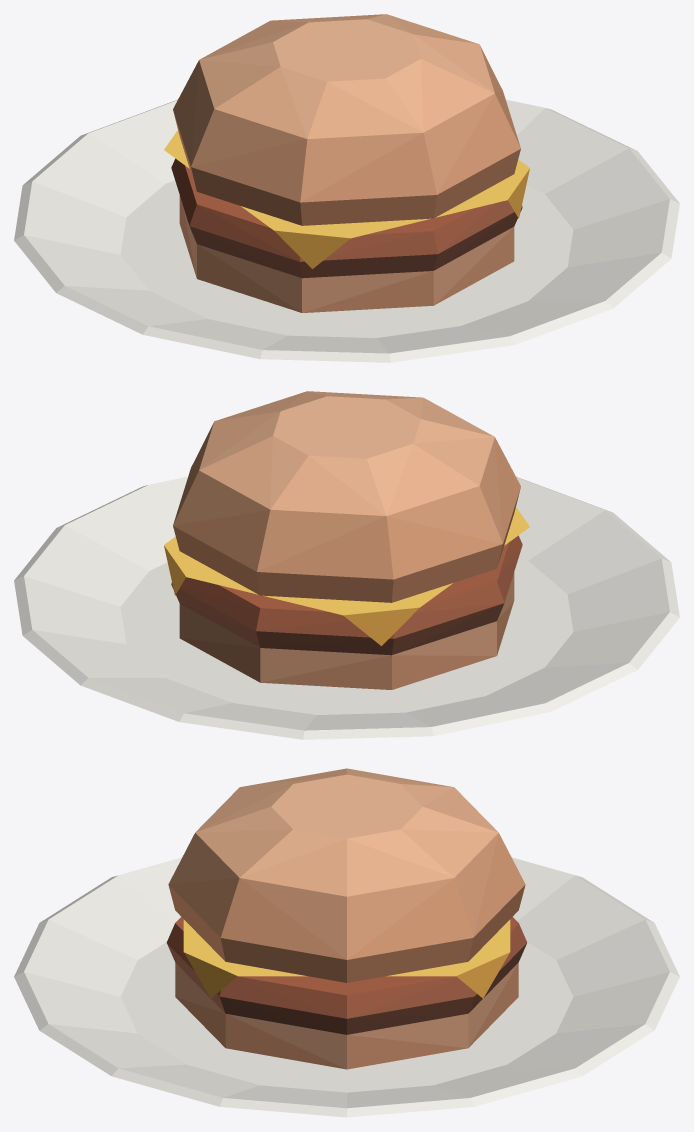
File: m-burger.glb
3 renders of one model, top to bottom at view 1: azimuth 30°, elevation 25°; view 2: azimuth 150°, elevation 25°; view 3: azimuth 270°, elevation 25°, orthographic.
Parts seen in each view (by area): view 1: m_burger; view 2: m_burger; view 3: m_burger.
Boxes of the visible parts, bbox=[...] form: m_burger: bbox=[14, 14, 679, 362]; m_burger: bbox=[14, 391, 679, 739]; m_burger: bbox=[14, 768, 679, 1117].
Size of the model in its own units: 0.24 by 0.0877 by 0.24.
